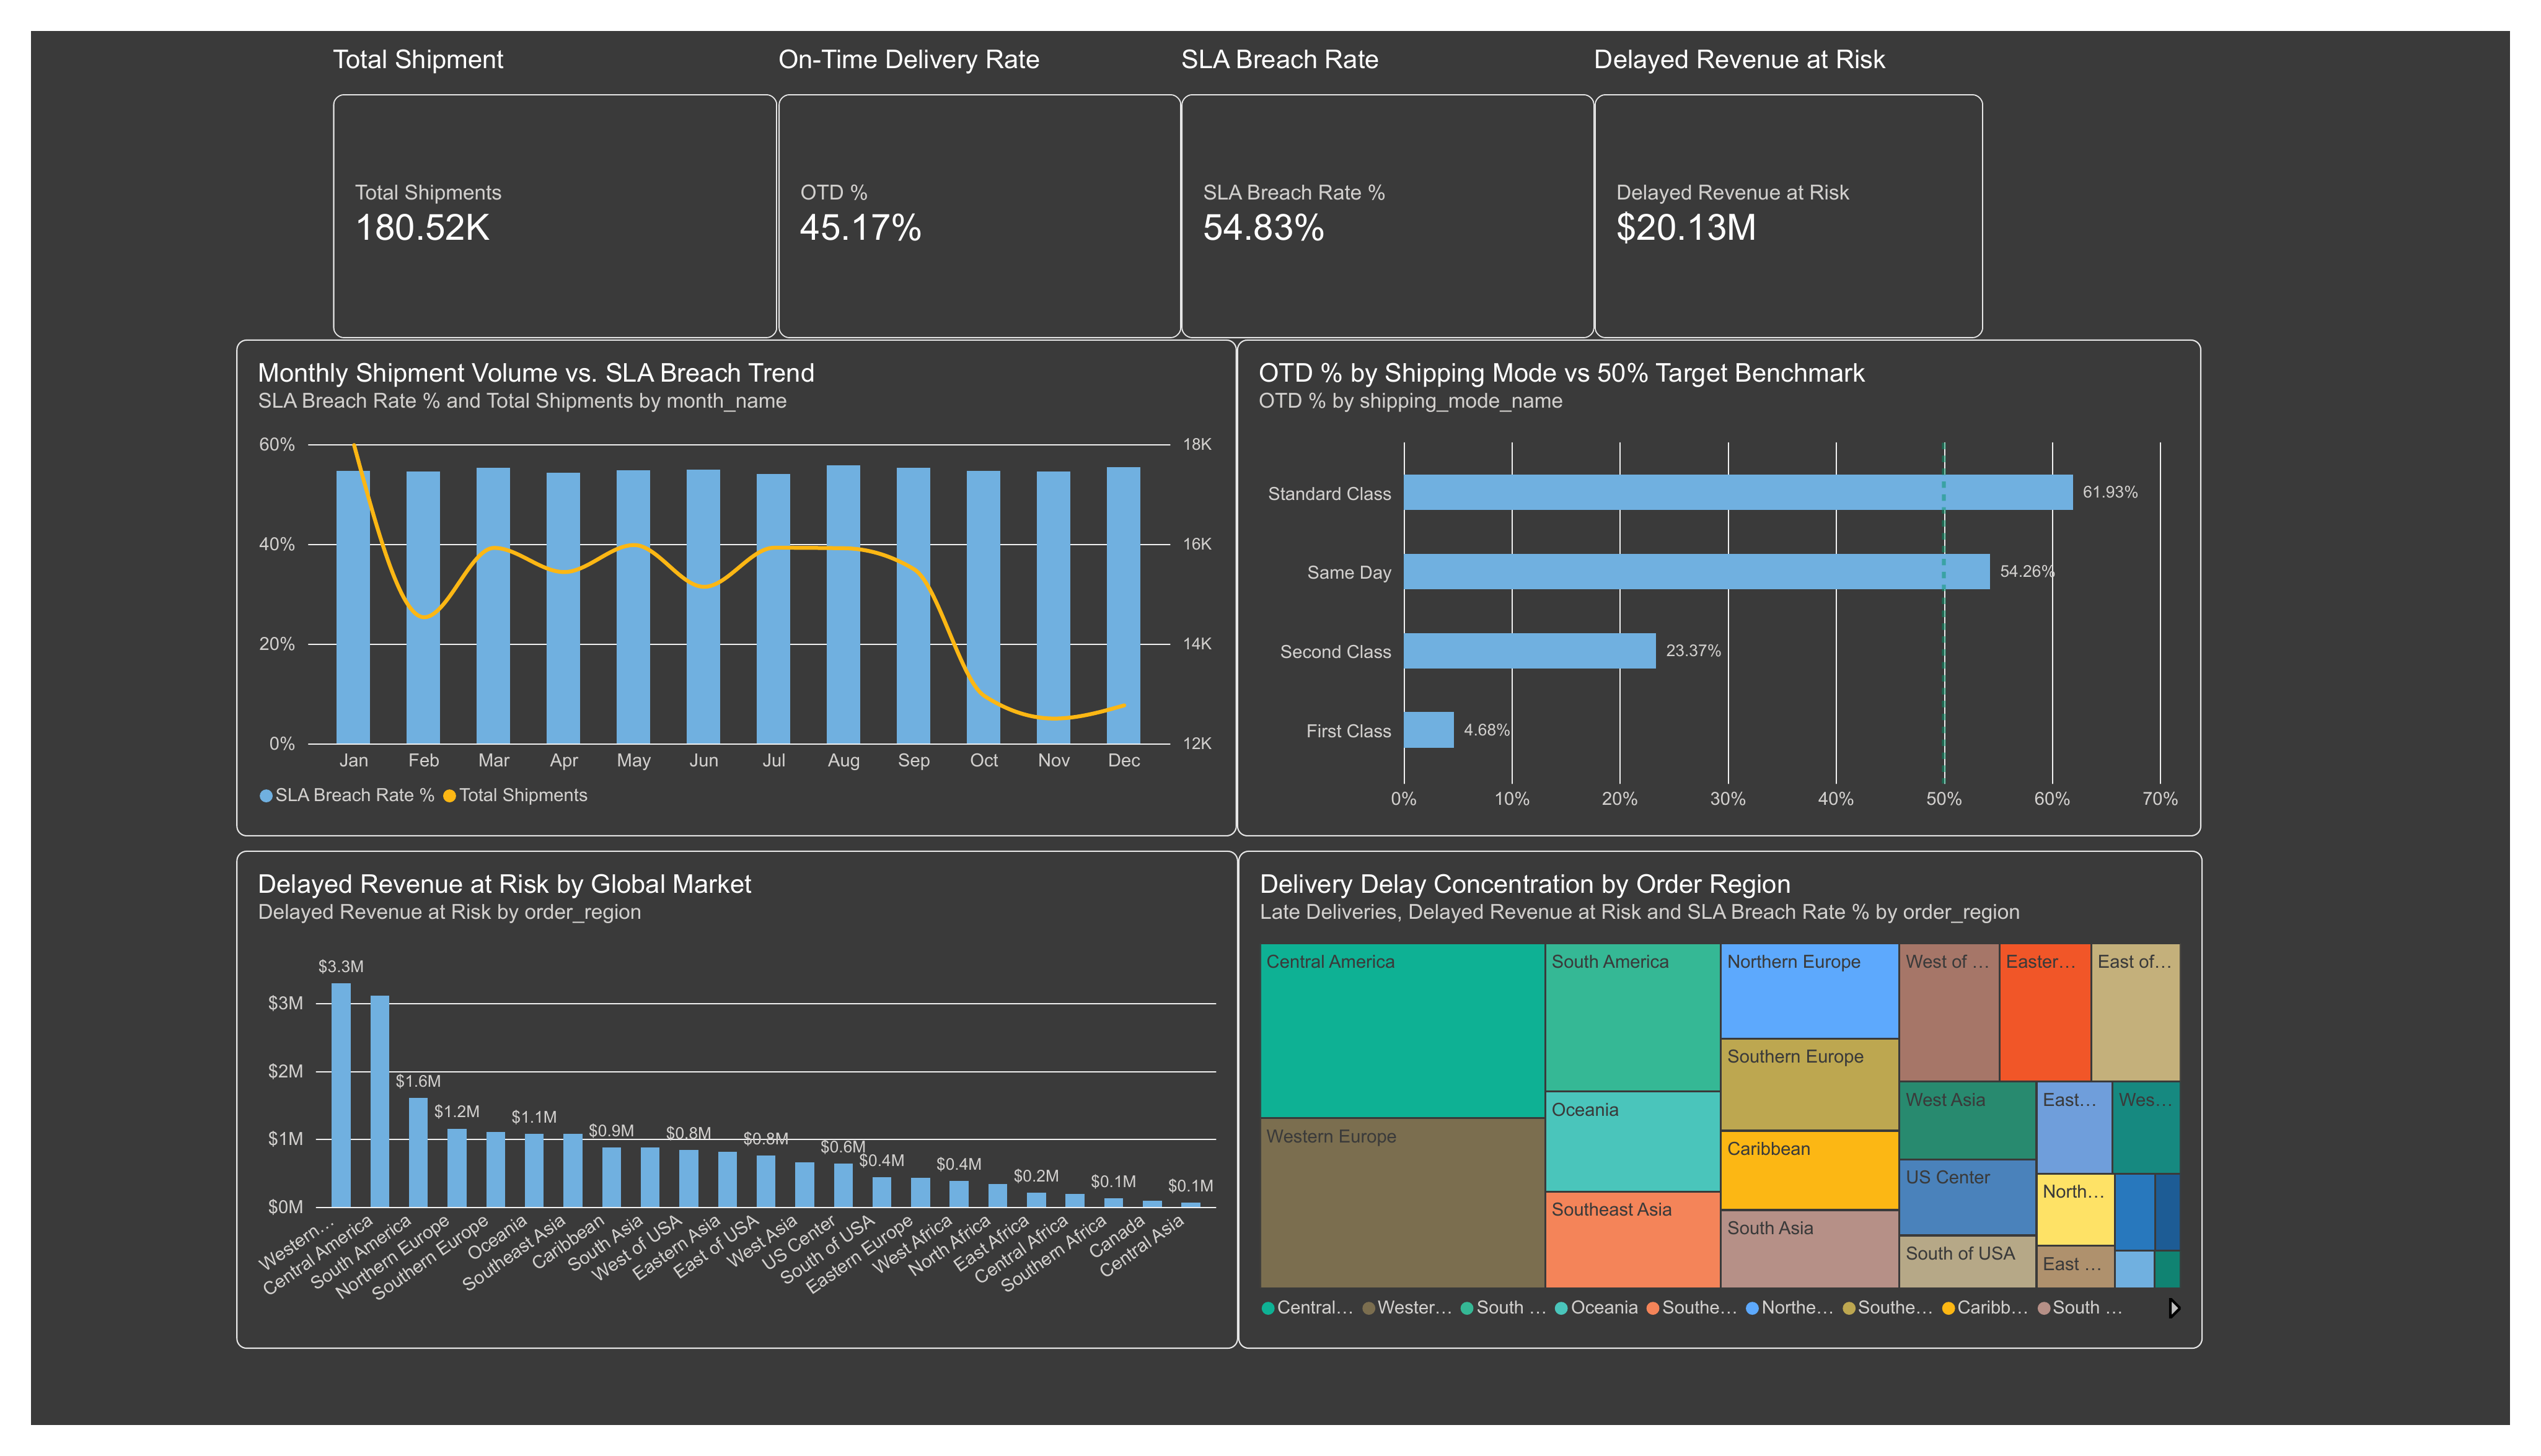

Layout of this report page (visuals, bound fields, positions):
{"tool":"powerbi","page":{"name":"Page 1","canvas":[1920,1080],"ordinal":0},"visuals":[{"type":"cardVisual","title":"Total Shipment","fields":{"Data":["fact_shipments.Total Shipments"]},"box":[234.3,11.4,344.3,227.1],"z":0},{"type":"cardVisual","title":"On-Time Delivery Rate","fields":{"Data":["fact_shipments.OTD %"]},"box":[578.6,11.4,312.9,227.1],"z":1000},{"type":"cardVisual","title":"SLA Breach Rate","fields":{"Data":["fact_shipments.SLA Breach Rate %"]},"box":[891.4,11.4,320,227.1],"z":2000},{"type":"cardVisual","title":"Delayed Revenue at Risk","fields":{"Data":["fact_shipments.Delayed Revenue at Risk"]},"box":[1211.4,11.4,301.4,227.1],"z":3000},{"type":"lineClusteredColumnComboChart","title":"Monthly Shipment Volume vs. SLA Breach Trend","fields":{"Category":["dim_calendar.month_name"],"Y":["fact_shipments.SLA Breach Rate %"],"Y2":["fact_shipments.Total Shipments"]},"box":[158.6,238.6,775.7,385.7],"z":4000},{"type":"clusteredBarChart","title":"OTD % by Shipping Mode vs 50% Target Benchmark","fields":{"Category":["dim_shipping_modes.shipping_mode_name"],"Y":["fact_shipments.OTD %"]},"box":[934.3,238.6,747.1,385.7],"z":5000},{"type":"clusteredColumnChart","title":"Delayed Revenue at Risk by Global Market","fields":{"Category":["dim_regions.order_region"],"Y":["fact_shipments.Delayed Revenue at Risk"]},"box":[158.6,634.7,776,386],"z":6000},{"type":"treemap","title":"Delivery Delay Concentration by Order Region","fields":{"Group":["dim_regions.order_region"],"Values":["fact_shipments.Late Deliveries"]},"box":[934.6,634.7,747,386],"z":7000}]}

Visuals, with their boxes on the page's 1920x1080 design canvas (x1, y1, x2, y2). These are canvas units, not pixel positions in the 2541x1456 screenshot, which may show the page scaled, cropped or inside an application window:
"Total Shipment" cardVisual: box=[234, 11, 579, 238]
"On-Time Delivery Rate" cardVisual: box=[579, 11, 892, 238]
"SLA Breach Rate" cardVisual: box=[891, 11, 1211, 238]
"Delayed Revenue at Risk" cardVisual: box=[1211, 11, 1513, 238]
"Monthly Shipment Volume vs. SLA Breach Trend" lineClusteredColumnComboChart: box=[159, 239, 934, 624]
"OTD % by Shipping Mode vs 50% Target Benchmark" clusteredBarChart: box=[934, 239, 1681, 624]
"Delayed Revenue at Risk by Global Market" clusteredColumnChart: box=[159, 635, 935, 1021]
"Delivery Delay Concentration by Order Region" treemap: box=[935, 635, 1682, 1021]
